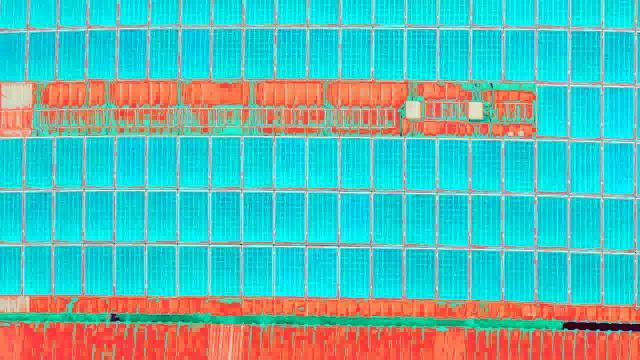dirty: (1, 139, 534, 303), (1, 1, 640, 82), (535, 85, 638, 303)
